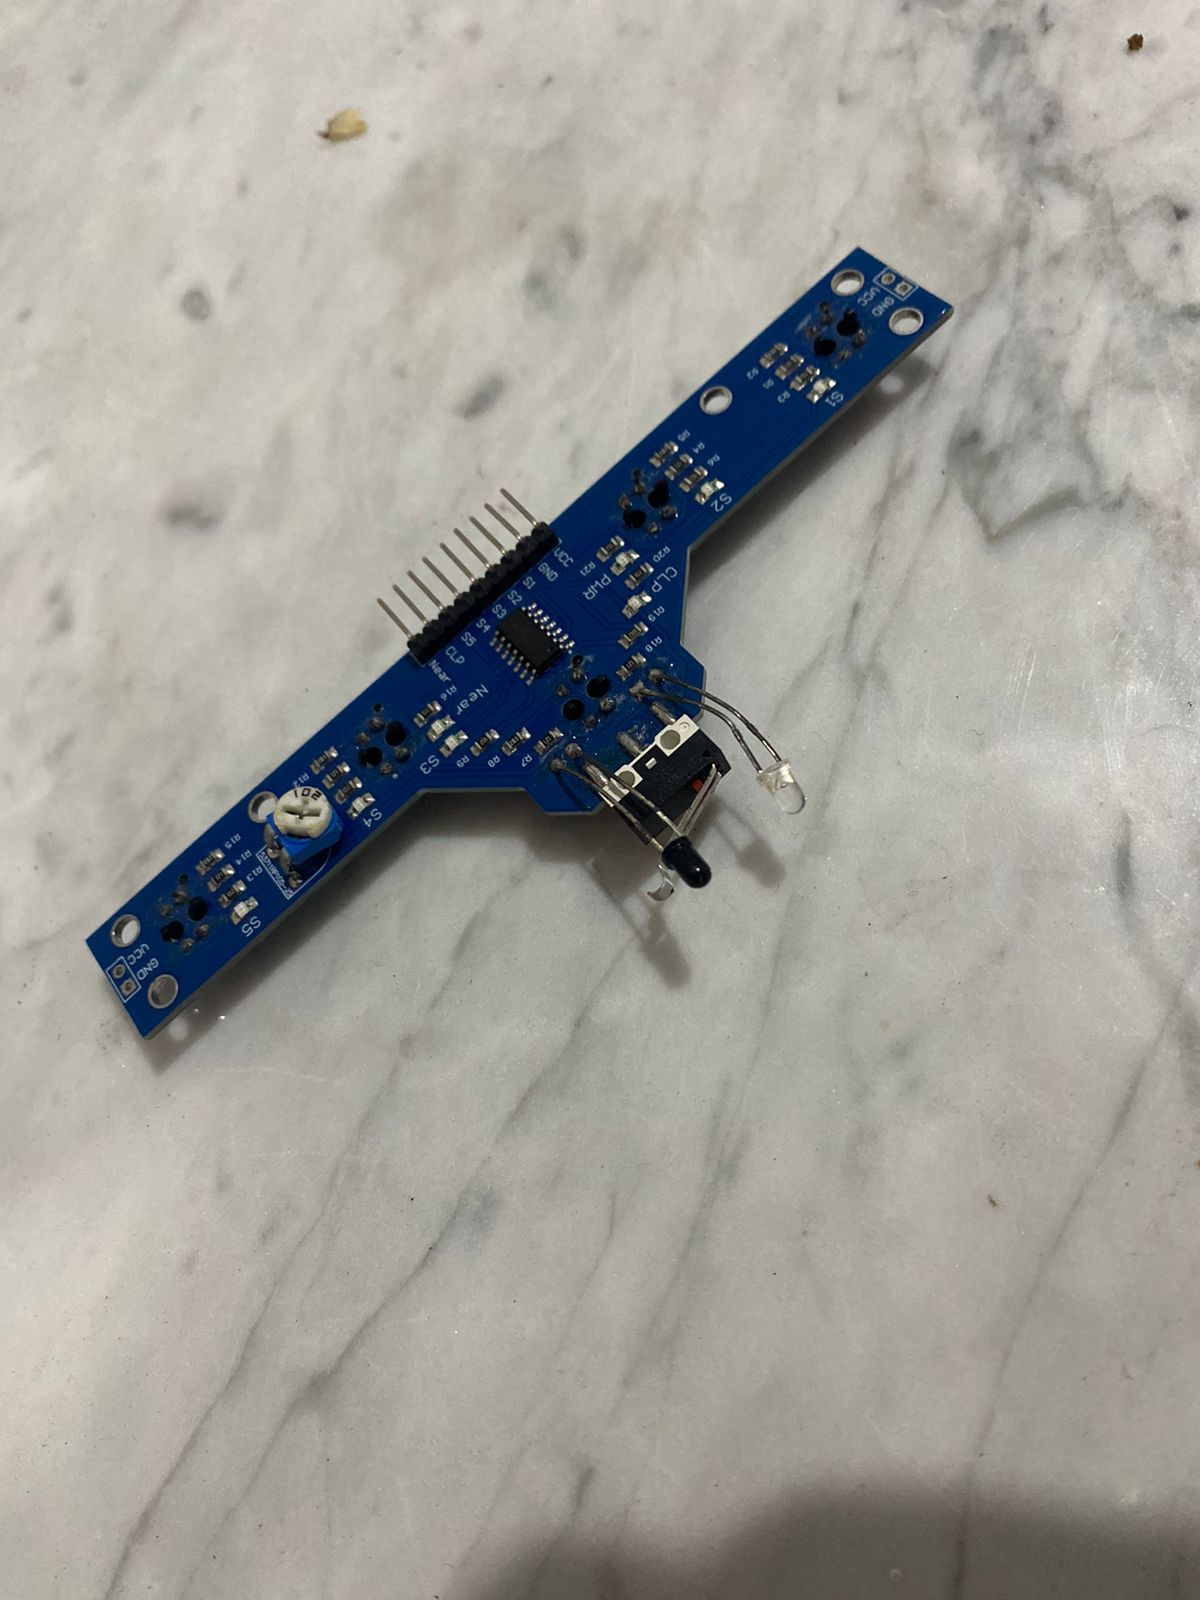Capteur-IR-5 Voies: (84, 237, 961, 1048)
